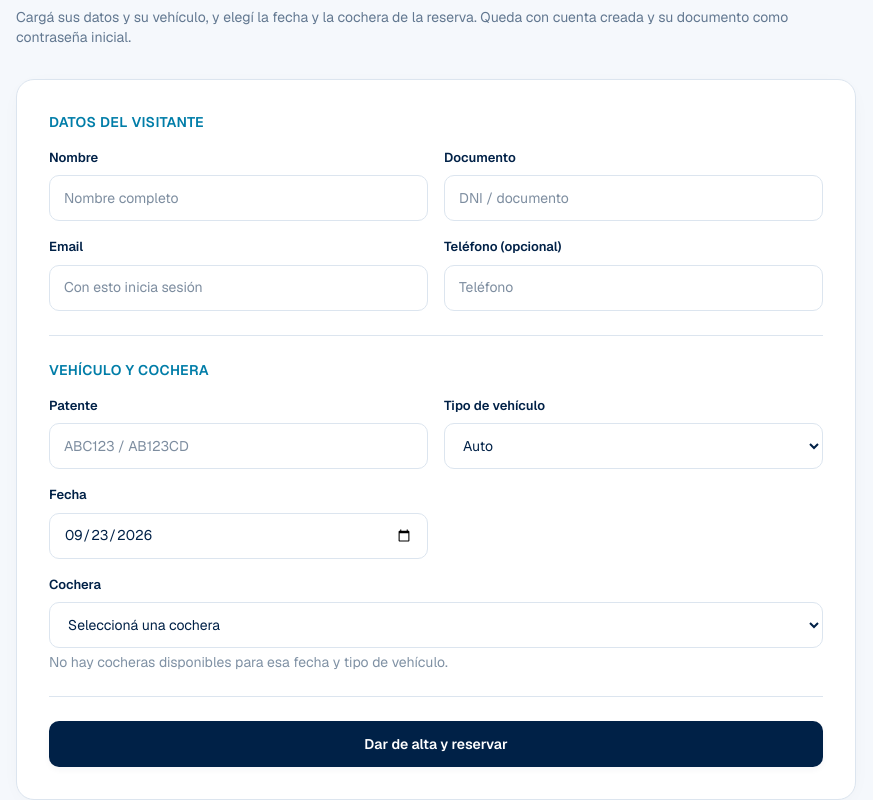
Test case: VisitantesContent (alta de visitante con reserva) › muestra errores si se envia el formulario vacio
(page scrolled)
What coordinates should you click on to do the following:
click the button "Dar de alta y reservar"
I would click on:
 (436, 744)
Its box is [49,721,823,767].
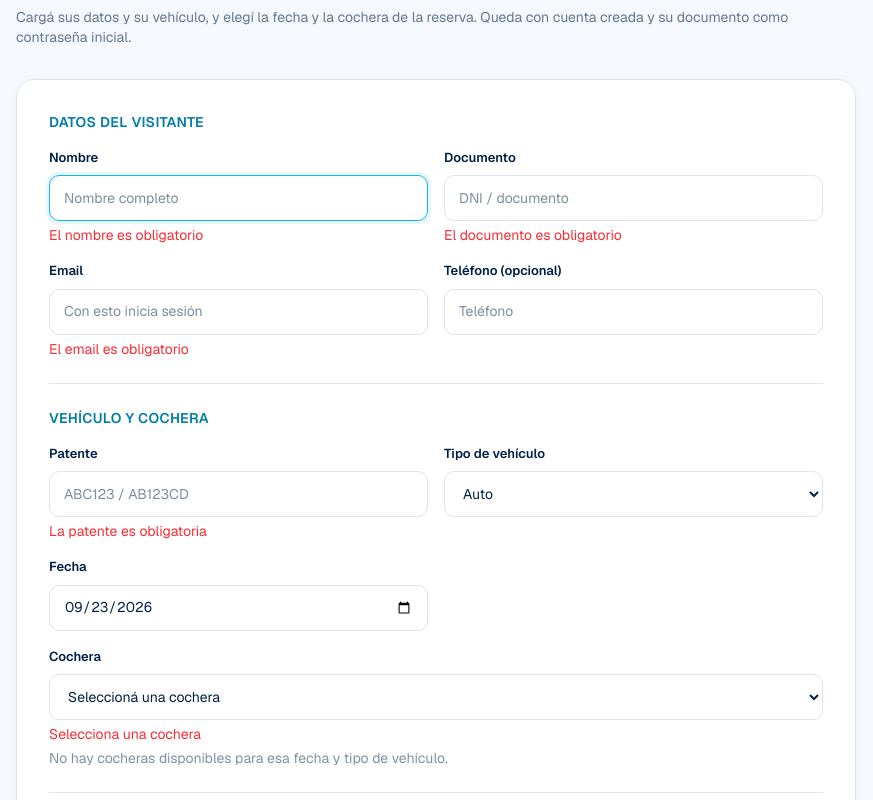
Expected: the text "El nombre es obligatorio" is shown, [49,226,203,244]
Expected: the text "El documento es obligatorio" is shown, [444,226,622,244]
Expected: the text "El email es obligatorio" is shown, [49,340,189,358]
